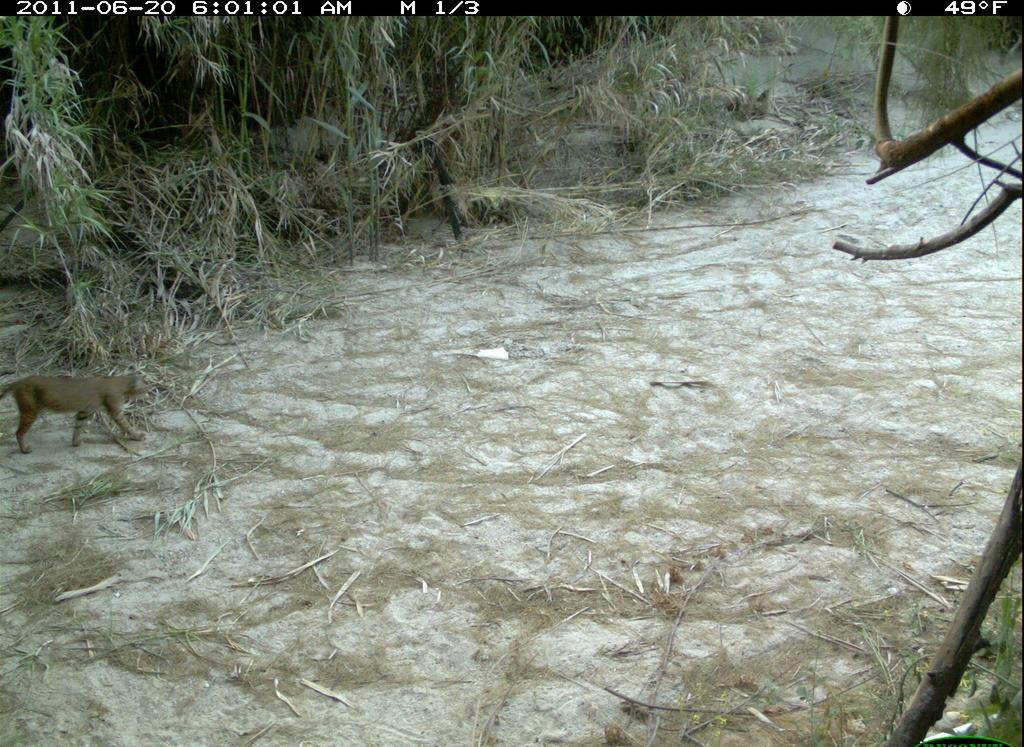bobcat: (1, 360, 157, 469)
